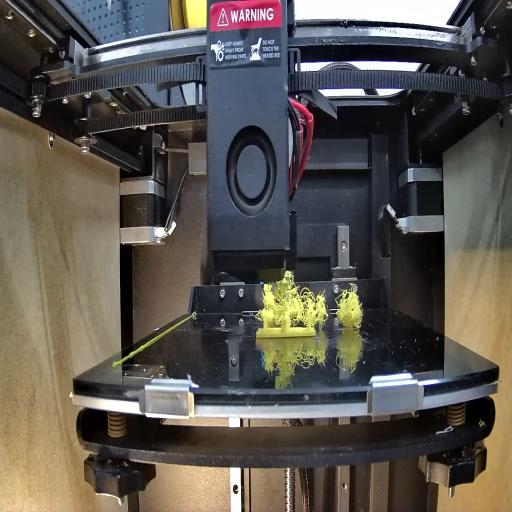spaghetti: (260, 268, 372, 327)
